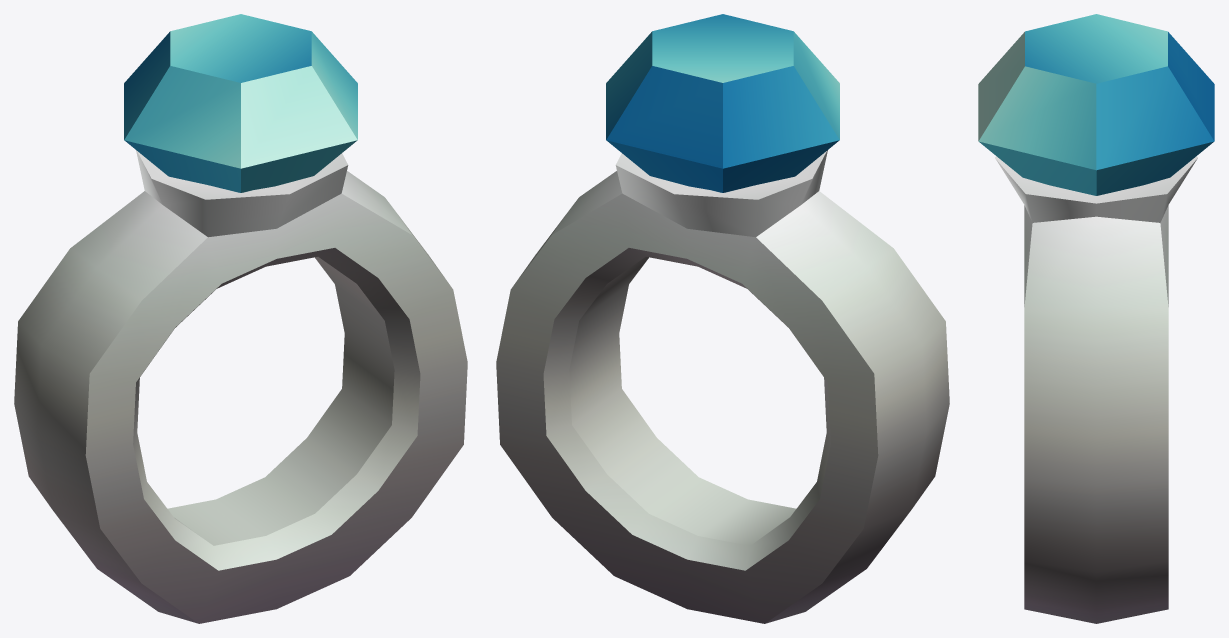
The model's file is Silver_Gem_Ring_01.glb.
3 views of the same model, side by side, from view 1: azimuth 30°, elevation 25°; view 2: azimuth 150°, elevation 25°; view 3: azimuth 270°, elevation 25° (orthographic).
Visible parts, largest first — view 1: Silver_Gem_Ring_01; view 2: Silver_Gem_Ring_01; view 3: Silver_Gem_Ring_01.
Part boxes in pixels (bbox=[...]): Silver_Gem_Ring_01: bbox=[14, 14, 467, 623]; Silver_Gem_Ring_01: bbox=[496, 14, 949, 623]; Silver_Gem_Ring_01: bbox=[978, 14, 1214, 623].
Size of the model in its own units: 0.4853 by 0.6237 by 0.2412.
1 material, 1 textured.
